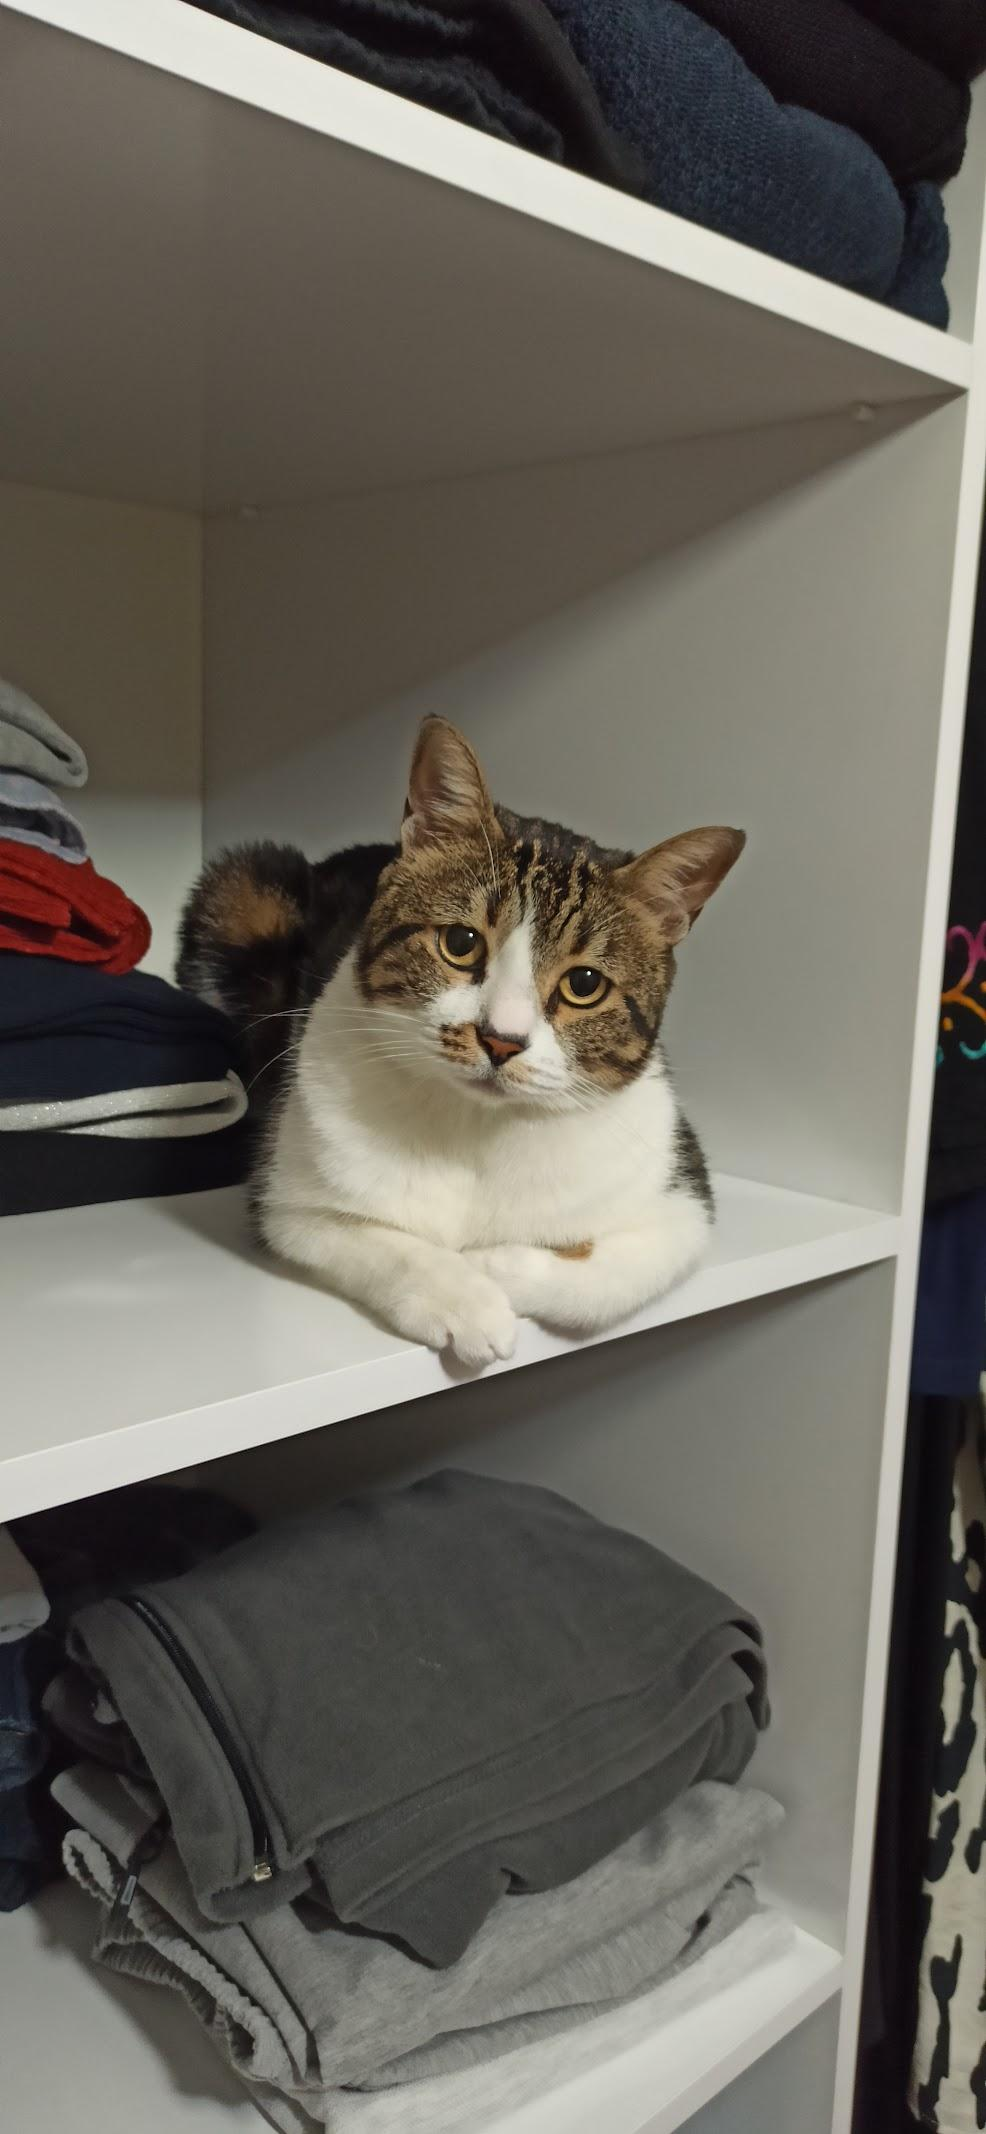kedo: (178, 724, 748, 1349)
